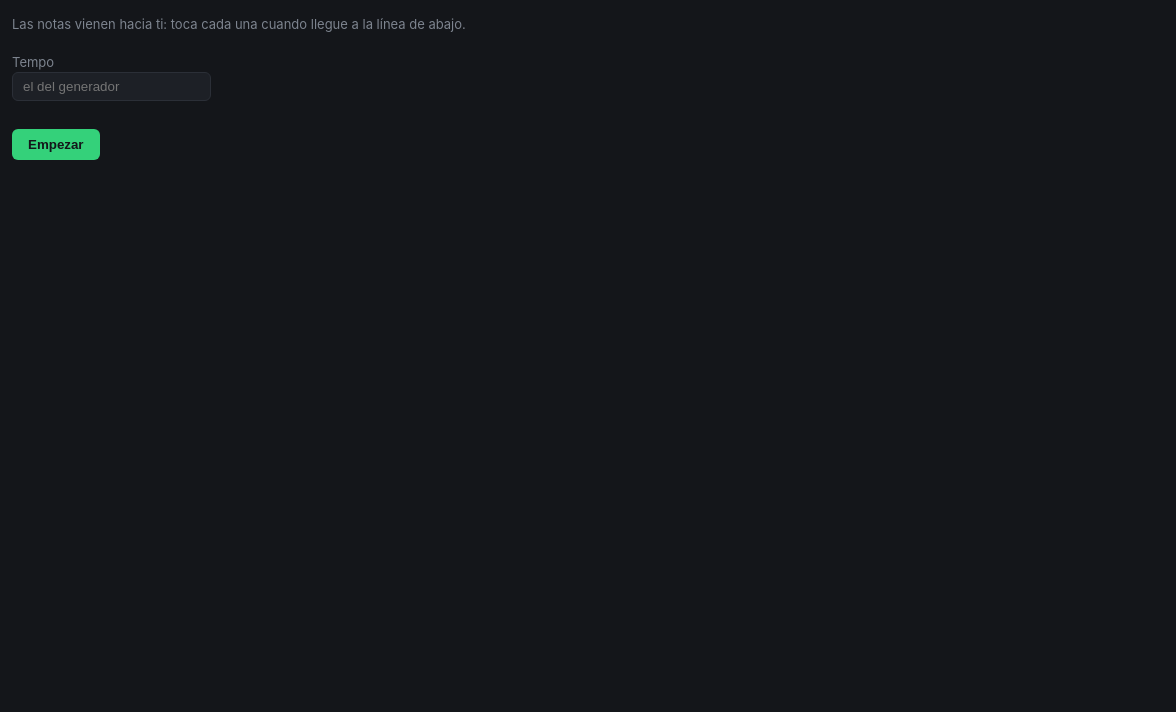
Carril › avisa cuando el carril está pausado por falta de señal
This screenshot has width=1176, height=712.
Click the button "Empezar": point(56, 144) x1=12 y1=129 x2=100 y2=160
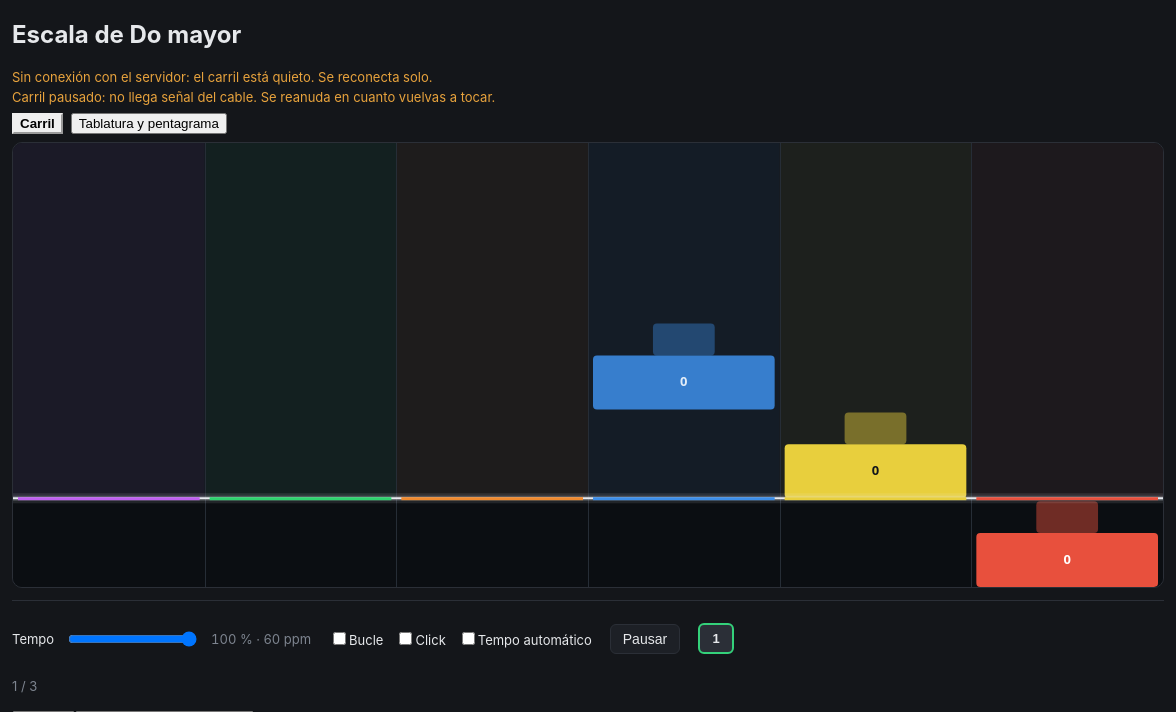
Now the text "pausado" is shown, box x1=12 y1=89 x2=495 y2=105
